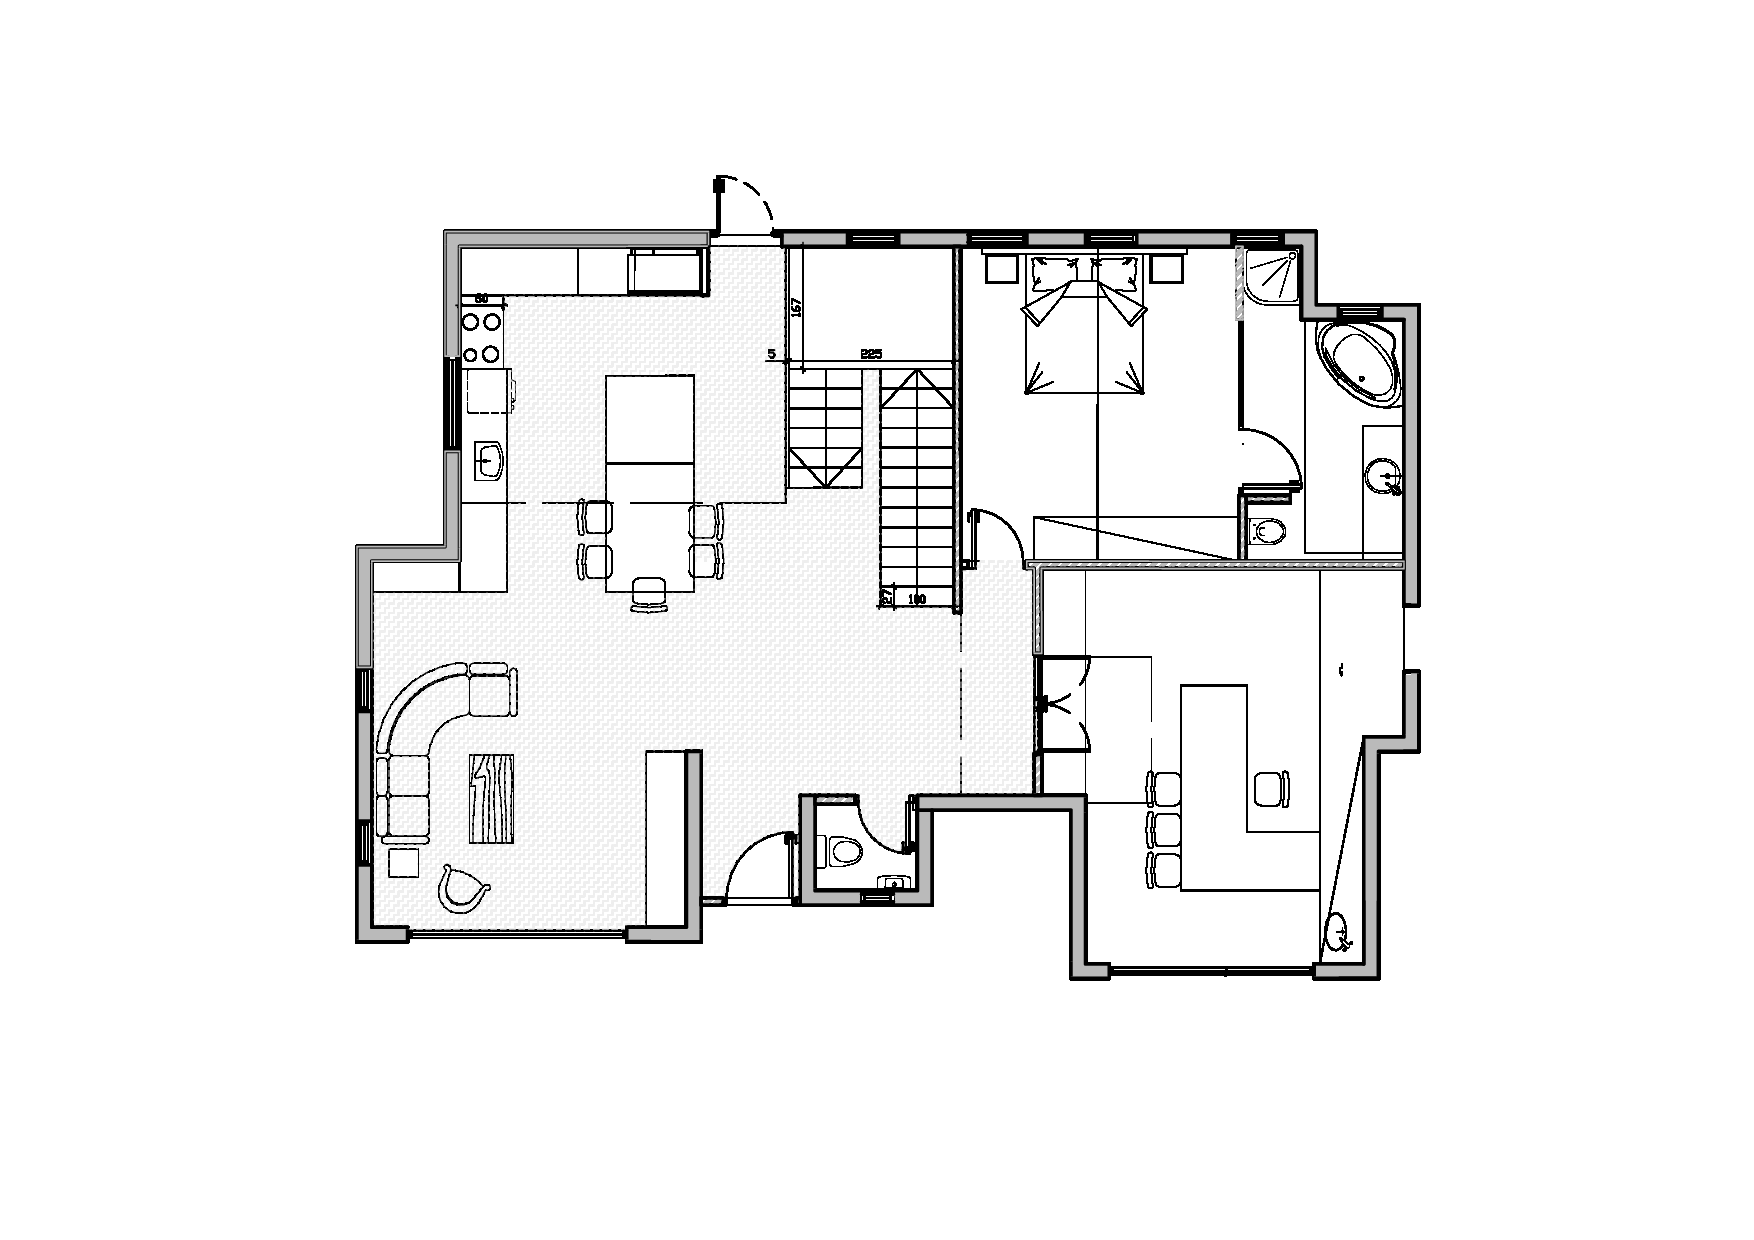door: (697, 150, 786, 227), (725, 825, 798, 892), (1252, 421, 1306, 494), (968, 497, 1023, 553)
wall: (1406, 311, 1417, 592), (688, 754, 699, 938), (1365, 794, 1376, 951), (1074, 801, 1083, 957), (450, 235, 456, 354), (361, 554, 366, 658)
window: (437, 358, 464, 451), (845, 220, 900, 258), (1084, 216, 1139, 254), (969, 220, 1024, 258), (1228, 216, 1283, 254), (350, 816, 377, 866), (352, 667, 376, 713)
